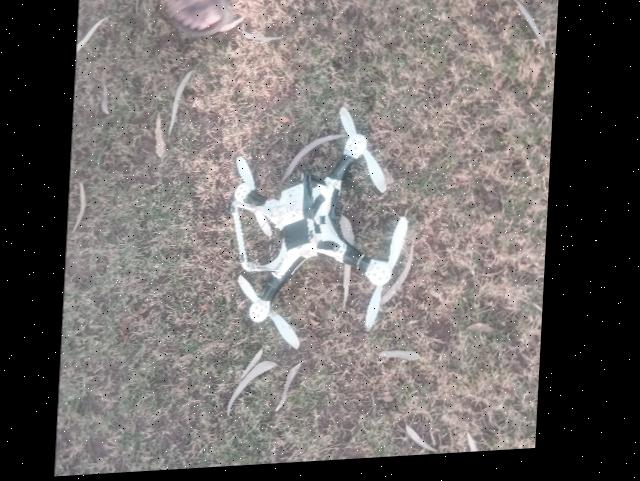drone: (216, 109, 427, 383)
